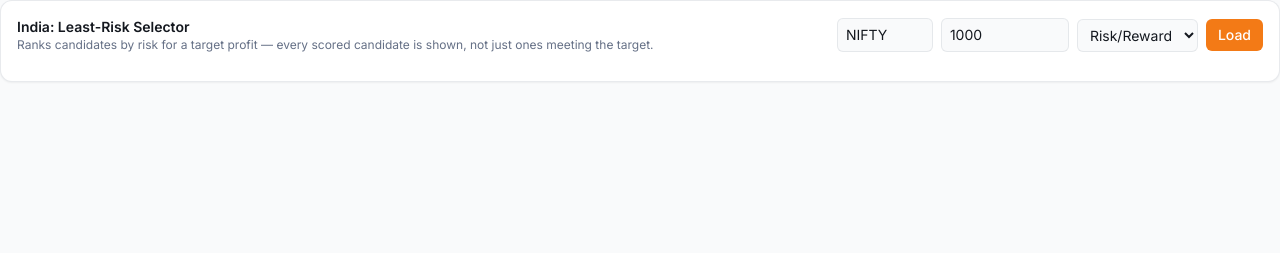
Test: IndiaSelectorPanel › clears the previous ticker's candidates while the next load runs (no stale Approve button)
The width and height of the screenshot is (1280, 253).
Click the button "Load" at (1234, 35), box [1206,19,1263,51]
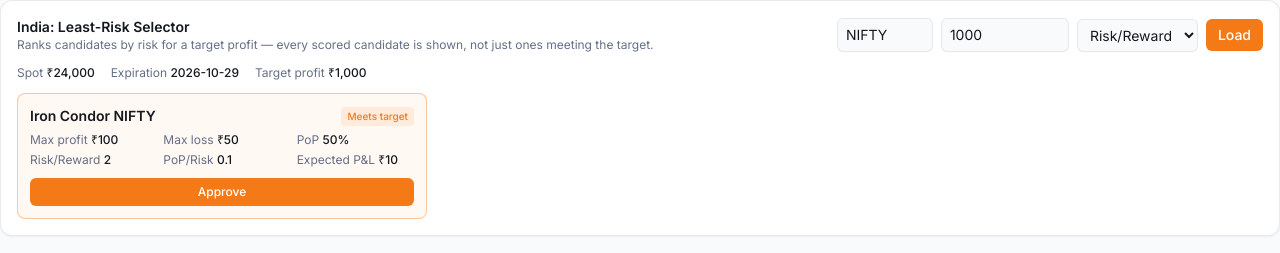
Check: the text "Iron Condor NIFTY" is shown, box [30,106,156,126]
Click the button "Load" at (1234, 35), box [1206,19,1263,51]
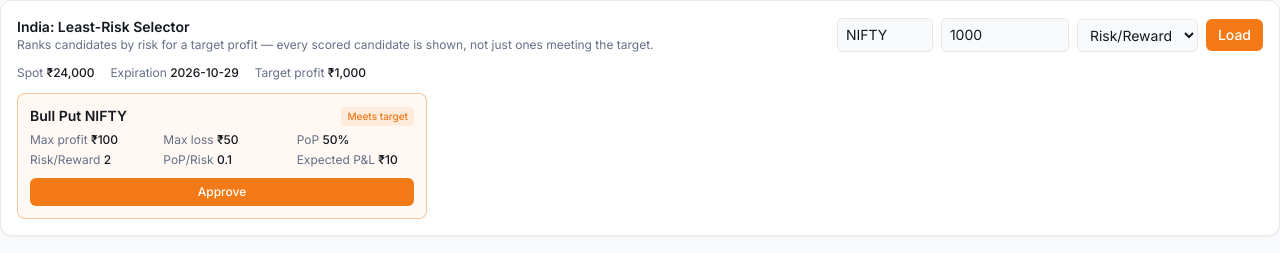
Check: the text "Iron Condor NIFTY" is gone
Check: the text "Bull Put NIFTY" is shown, box [30,106,127,126]
